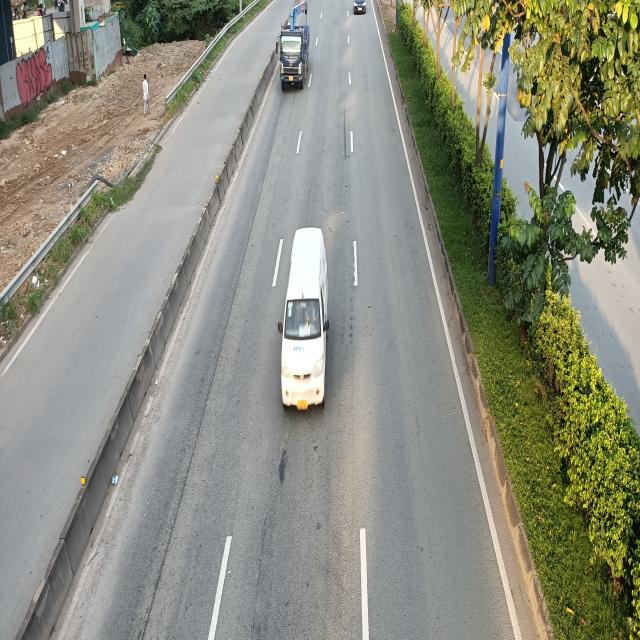truck: (277, 0, 310, 90)
van: (278, 228, 331, 409)
